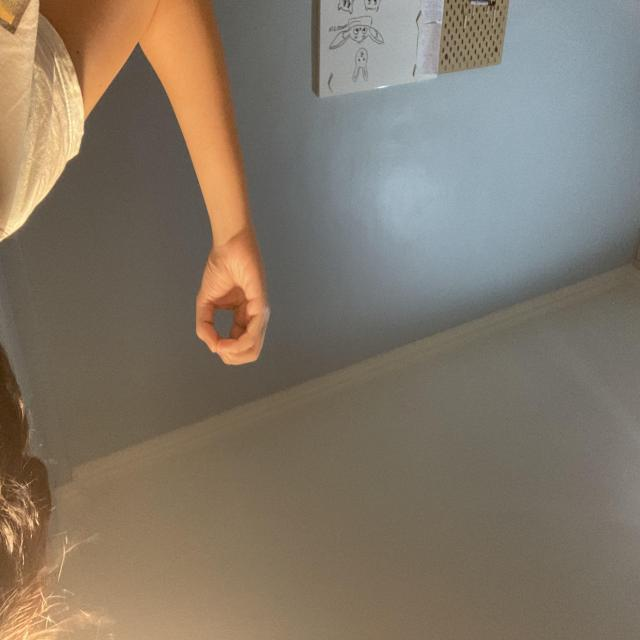O: (369, 274, 444, 412)
